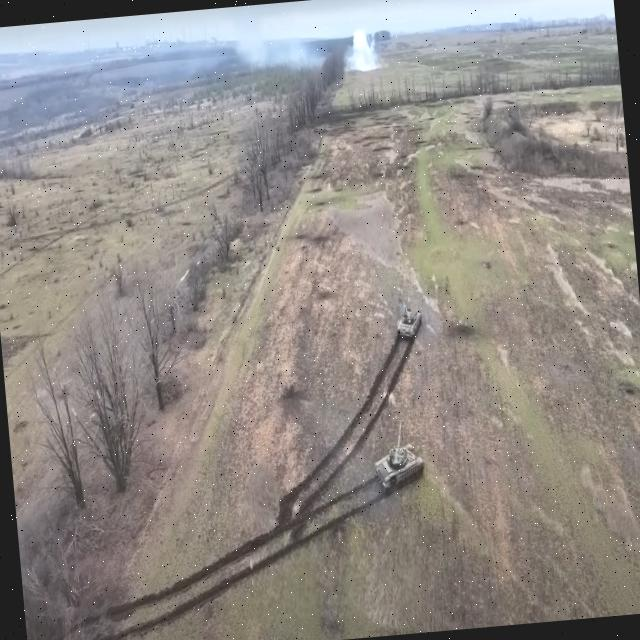MBT: (370, 415, 428, 495), (394, 294, 427, 347)
